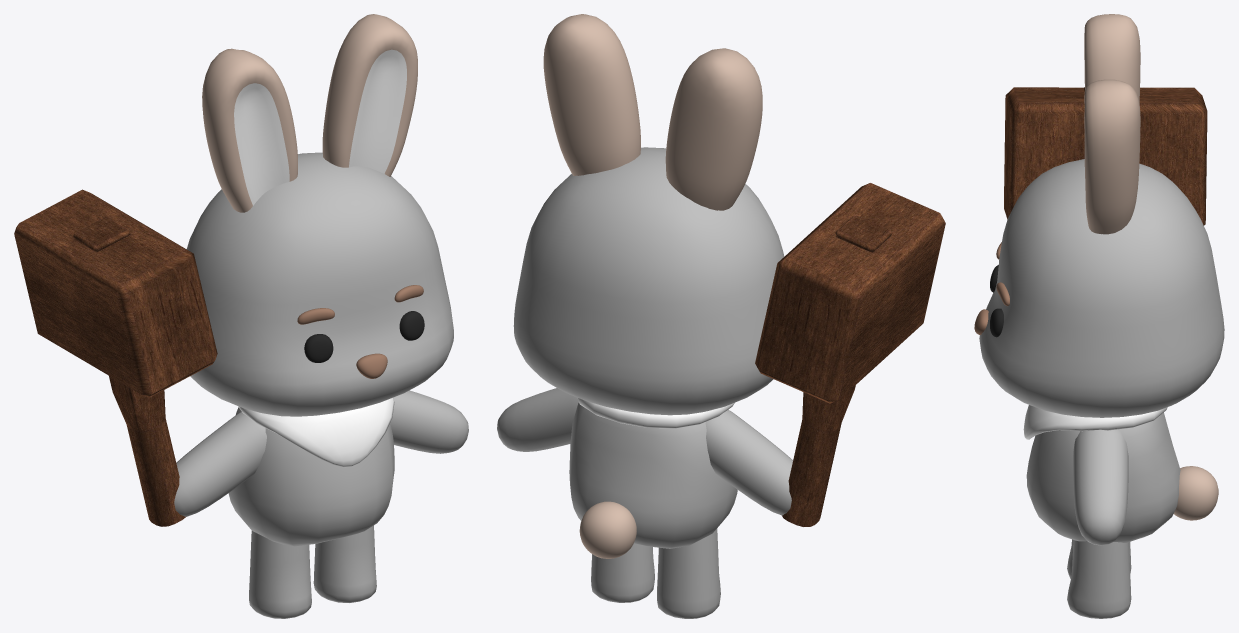
The model's file is bunny.glb.
3 views of the same model, side by side, from view 1: azimuth 30°, elevation 25°; view 2: azimuth 150°, elevation 25°; view 3: azimuth 270°, elevation 25° (orthographic). The views are drawn at different scales.
Visible parts, largest first — view 1: bunny1_head, Wooden Hammer, bunny1_ears, bunny1_body, bunny1_arms, bunny1_legs, bunny1_scraf, bunny1_eyes, bunny1_eyebrow, bunny1_nose; view 2: bunny1_head, Wooden Hammer, bunny1_ears, bunny1_body, bunny1_arms, bunny1_legs, bunny1_tail, bunny1_scraf; view 3: bunny1_head, Wooden Hammer, bunny1_ears, bunny1_body, bunny1_arms, bunny1_legs, bunny1_scraf, bunny1_tail, bunny1_eyes.
Part boxes in pixels (x1,y1,x2,y2): bunny1_head: (186, 152, 453, 416); Wooden Hammer: (14, 189, 217, 526); bunny1_ears: (202, 14, 417, 212); bunny1_body: (228, 407, 394, 546); bunny1_arms: (174, 390, 468, 516); bunny1_legs: (249, 525, 376, 618); bunny1_scraf: (238, 397, 394, 467); bunny1_eyes: (304, 311, 424, 362); bunny1_eyebrow: (297, 285, 423, 324); bunny1_nose: (356, 353, 387, 378); bunny1_head: (513, 147, 784, 415); Wooden Hammer: (755, 183, 945, 526); bunny1_ears: (543, 14, 762, 210); bunny1_body: (569, 403, 737, 548); bunny1_arms: (497, 388, 792, 515); bunny1_legs: (591, 528, 720, 618); bunny1_tail: (579, 501, 636, 558); bunny1_scraf: (577, 398, 734, 428); bunny1_head: (979, 159, 1224, 417); Wooden Hammer: (1004, 87, 1207, 225); bunny1_ears: (1084, 14, 1140, 234); bunny1_body: (1026, 412, 1180, 542); bunny1_arms: (1073, 429, 1128, 545); bunny1_legs: (1067, 539, 1131, 618); bunny1_scraf: (1023, 405, 1167, 439); bunny1_tail: (1173, 466, 1218, 520); bunny1_eyes: (990, 265, 1003, 337).
Bounding box in the file's own units: 5.99 × 7.96 × 3.31.
7 materials, 1 textured.
